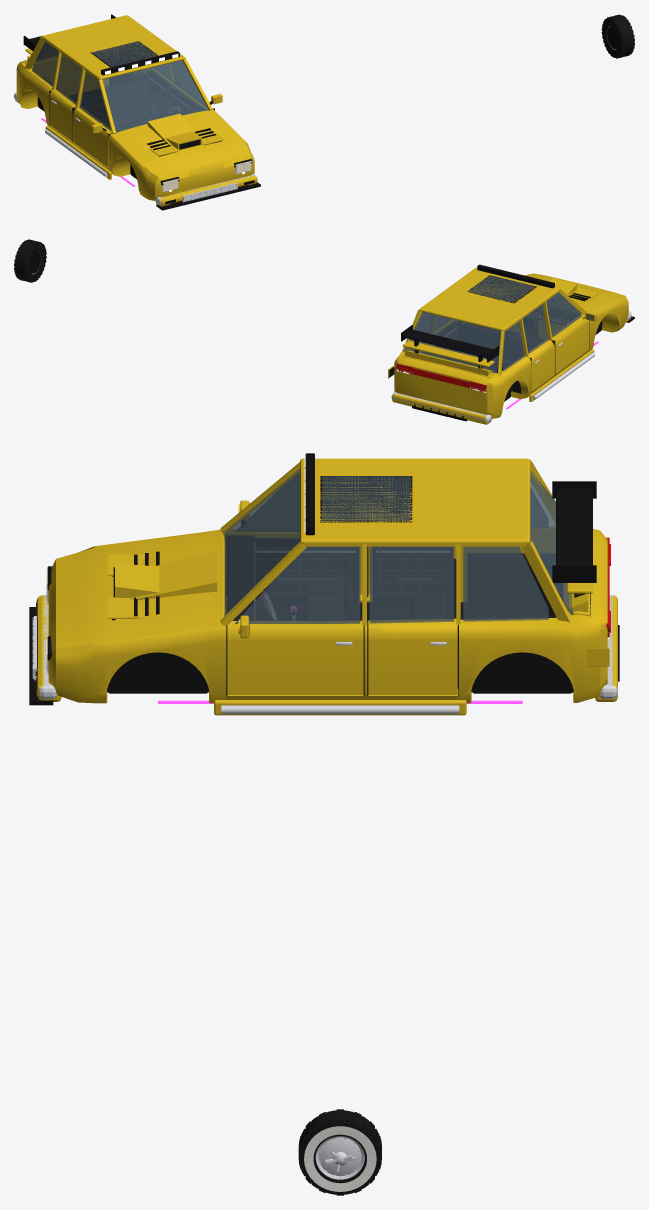
Rendered from KazumiK2.glb.
3 views of the same model, one above another, from view 1: azimuth 30°, elevation 25°; view 2: azimuth 150°, elevation 25°; view 3: azimuth 270°, elevation 25° (orthographic). The views are drawn at different scales.
Visible parts, largest first — view 1: KazumiK2_Glass, KazumiK2_PanelHood, KazumiK2_PanelRoof, KazumiK2_Body, KazumiK2_PanelSideR, KazumiK2_RoofBody, KazumiK2_PanelDoorR, KazumiK2_OptSeatsBucketsSeat, KazumiK2_PanelDoorRR, KazumiK2_OptTopSunroofDark, KazumiK2_RoofGlass__WinDoorR, KazumiK2_OptTopSunroofGlass (+16 smaller); view 2: KazumiK2_PanelRoof, KazumiK2_Body, KazumiK2_RoofGlass__Lid, KazumiK2_PanelSideR, KazumiK2_PanelDoorR, KazumiK2_OptSpoilerGTDark, KazumiK2_OptTopSunroofDark, KazumiK2_RoofBody, KazumiK2_OptTopSunroofGlass, KazumiK2_RoofGlass, KazumiK2_PanelDoorRR, KazumiK2_RoofGlass__WinDoorR (+16 smaller); view 3: KazumiK2_PanelRoof, KazumiK2_PanelSideL, KazumiK2_PanelHood, KazumiK2_PanelDoorL, KazumiK2_RoofGlass__WinDoorL, KazumiK2_PanelDoorRL, KazumiK2_Under, KazumiK2_Carpet, KazumiK2_RoofGlass__WinDoorRL, KazumiK2_Glass, KazumiK2_RoofGlass, KazumiK2_RoofBody (+18 smaller).
Part boxes in pixels (left/top/right/bottom): KazumiK2_Glass: left=102, top=60, right=208, bottom=132; KazumiK2_PanelHood: left=113, top=110, right=251, bottom=180; KazumiK2_PanelRoof: left=42, top=15, right=185, bottom=79; KazumiK2_Body: left=20, top=58, right=254, bottom=201; KazumiK2_PanelSideR: left=16, top=62, right=158, bottom=200; KazumiK2_RoofBody: left=24, top=36, right=212, bottom=133; KazumiK2_PanelDoorR: left=73, top=107, right=111, bottom=167; KazumiK2_OptSeatsBucketsSeat: left=71, top=80, right=162, bottom=126; KazumiK2_PanelDoorRR: left=49, top=89, right=75, bottom=140; KazumiK2_OptTopSunroofDark: left=90, top=41, right=158, bottom=67; KazumiK2_RoofGlass__WinDoorR: left=79, top=71, right=111, bottom=130; KazumiK2_OptTopSunroofGlass: left=92, top=41, right=157, bottom=66; KazumiK2_PanelRoof: left=419, top=267, right=560, bottom=330; KazumiK2_Body: left=394, top=299, right=620, bottom=418; KazumiK2_RoofGlass__Lid: left=404, top=311, right=501, bottom=373; KazumiK2_PanelSideR: left=487, top=296, right=628, bottom=418; KazumiK2_PanelDoorR: left=552, top=314, right=589, bottom=373; KazumiK2_OptSpoilerGTDark: left=401, top=325, right=498, bottom=368; KazumiK2_OptTopSunroofDark: left=467, top=275, right=536, bottom=303; KazumiK2_RoofBody: left=402, top=289, right=586, bottom=376; KazumiK2_OptTopSunroofGlass: left=468, top=275, right=535, bottom=302; KazumiK2_RoofGlass: left=413, top=313, right=524, bottom=371; KazumiK2_PanelDoorRR: left=528, top=340, right=554, bottom=390; KazumiK2_RoofGlass__WinDoorR: left=546, top=292, right=581, bottom=337; KazumiK2_PanelRoof: left=300, top=458, right=530, bottom=544; KazumiK2_PanelSideL: left=56, top=620, right=607, bottom=703; KazumiK2_PanelHood: left=48, top=531, right=222, bottom=651; KazumiK2_PanelDoorL: left=227, top=620, right=363, bottom=694; KazumiK2_RoofGlass__WinDoorL: left=235, top=546, right=360, bottom=623; KazumiK2_PanelDoorRL: left=368, top=618, right=457, bottom=694; KazumiK2_Under: left=107, top=593, right=590, bottom=693; KazumiK2_Carpet: left=266, top=553, right=562, bottom=688; KazumiK2_RoofGlass__WinDoorRL: left=369, top=546, right=453, bottom=623; KazumiK2_Glass: left=223, top=469, right=300, bottom=616; KazumiK2_RoofGlass: left=463, top=490, right=548, bottom=621; KazumiK2_RoofBody: left=220, top=460, right=571, bottom=625.
Size of the model in its own units: 34.56 by 7 by 16.04.
